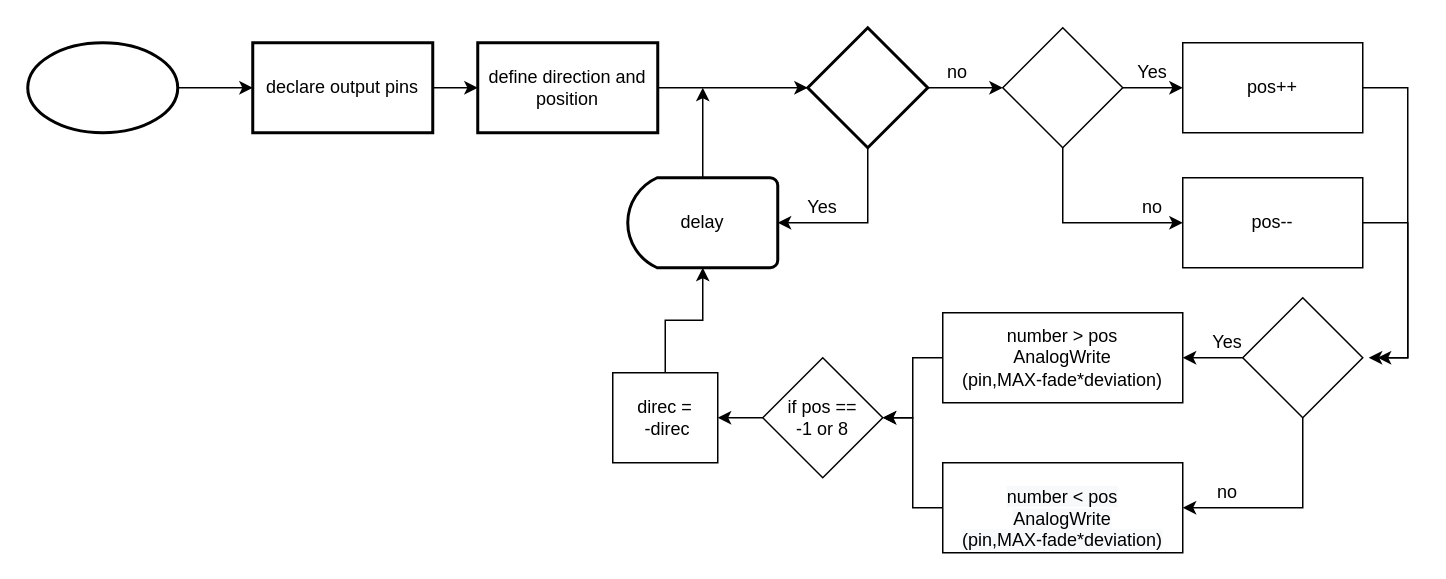
The diagram is 1446 pixels wide and 579 high, and some of its shapes have lost their labels. The box of each missing label's shape, as (x1, y1, x2, y2) in pixels:
if direc is left: (1241, 296, 1363, 418)
if direc is right: (1001, 26, 1123, 148)
if pause: (806, 26, 928, 148)
Start: (26, 40, 178, 134)
